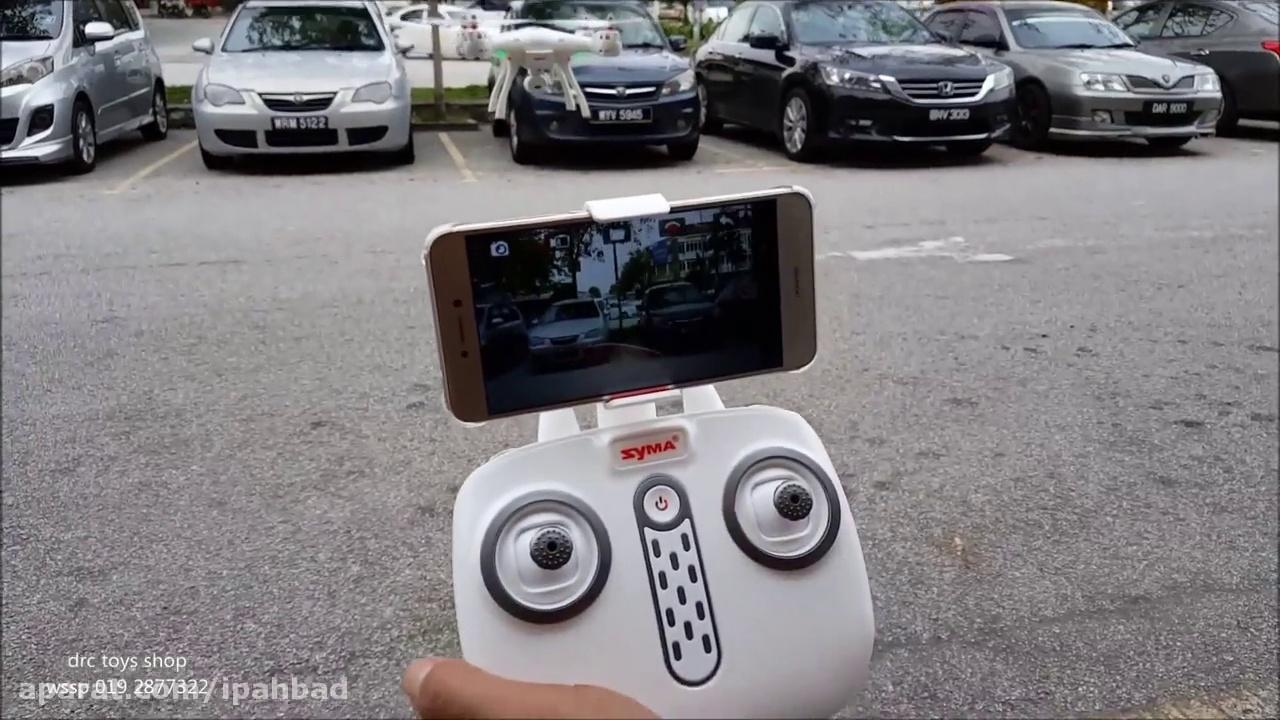drone: (438, 5, 645, 122)
